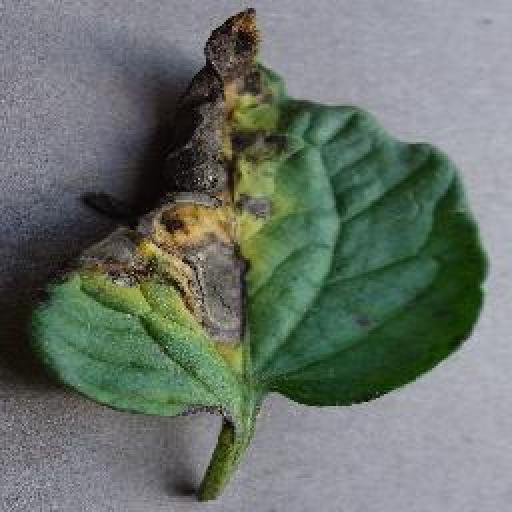disease_tomato: (35, 9, 488, 416)
